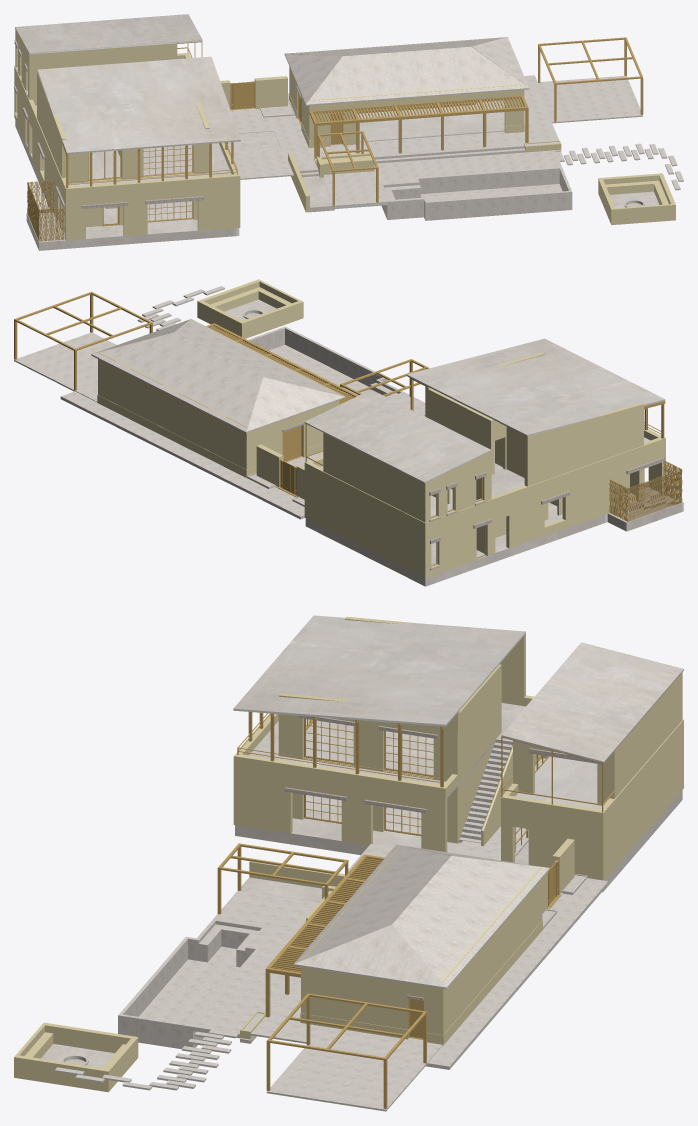
Rendered from Casona03.glb.
3 renders of one model, top to bottom at view 1: azimuth 30°, elevation 25°; view 2: azimuth 150°, elevation 25°; view 3: azimuth 270°, elevation 25°, orthographic. The views are drawn at different scales.
Visible parts, largest first — view 1: C03_Roof, C03_Floor02, C03_Floor01, C03_Wall03, C03_Wall04, C03_Pergolas, C03_Cancel, C03_Cornisa; view 2: C03_Roof, C03_Wall03, C03_Wall04, C03_Floor02, C03_Pergolas, C03_Floor01, C03_Wall02, C03_Cornisa; view 3: C03_Roof, C03_Floor02, C03_Wall03, C03_Wall04, C03_Floor01, C03_Pergolas, C03_Cancel, C03_Cornisa, C03_Wall02.
Boxes of the visible parts, box(x1,y1,x2,y2) form: C03_Roof: box(15, 14, 529, 154); C03_Floor02: box(228, 75, 683, 218); C03_Floor01: box(15, 100, 572, 250); C03_Wall03: box(14, 52, 675, 240); C03_Wall04: box(15, 29, 524, 227); C03_Pergolas: box(27, 37, 643, 241); C03_Cancel: box(27, 41, 202, 226); C03_Cornisa: box(14, 40, 301, 209); C03_Roof: box(91, 319, 665, 483); C03_Wall03: box(97, 279, 665, 577); C03_Wall04: box(98, 320, 643, 522); C03_Floor02: box(14, 286, 425, 519); C03_Pergolas: box(14, 291, 682, 521); C03_Floor01: box(250, 328, 683, 586); C03_Wall02: box(309, 420, 548, 553); C03_Cornisa: box(282, 422, 664, 569); C03_Roof: box(233, 615, 683, 989); C03_Floor02: box(41, 826, 608, 1111); C03_Wall03: box(14, 694, 683, 1092); C03_Wall04: box(249, 616, 682, 1034); C03_Floor01: box(123, 703, 682, 1049); C03_Pergolas: box(217, 712, 560, 1108); C03_Cancel: box(304, 718, 614, 852); C03_Cornisa: box(284, 715, 601, 1000); C03_Wall02: box(481, 745, 614, 846).
Size of the model in its own units: 49.3 by 10.32 by 35.33.
4 materials, 2 textured.
